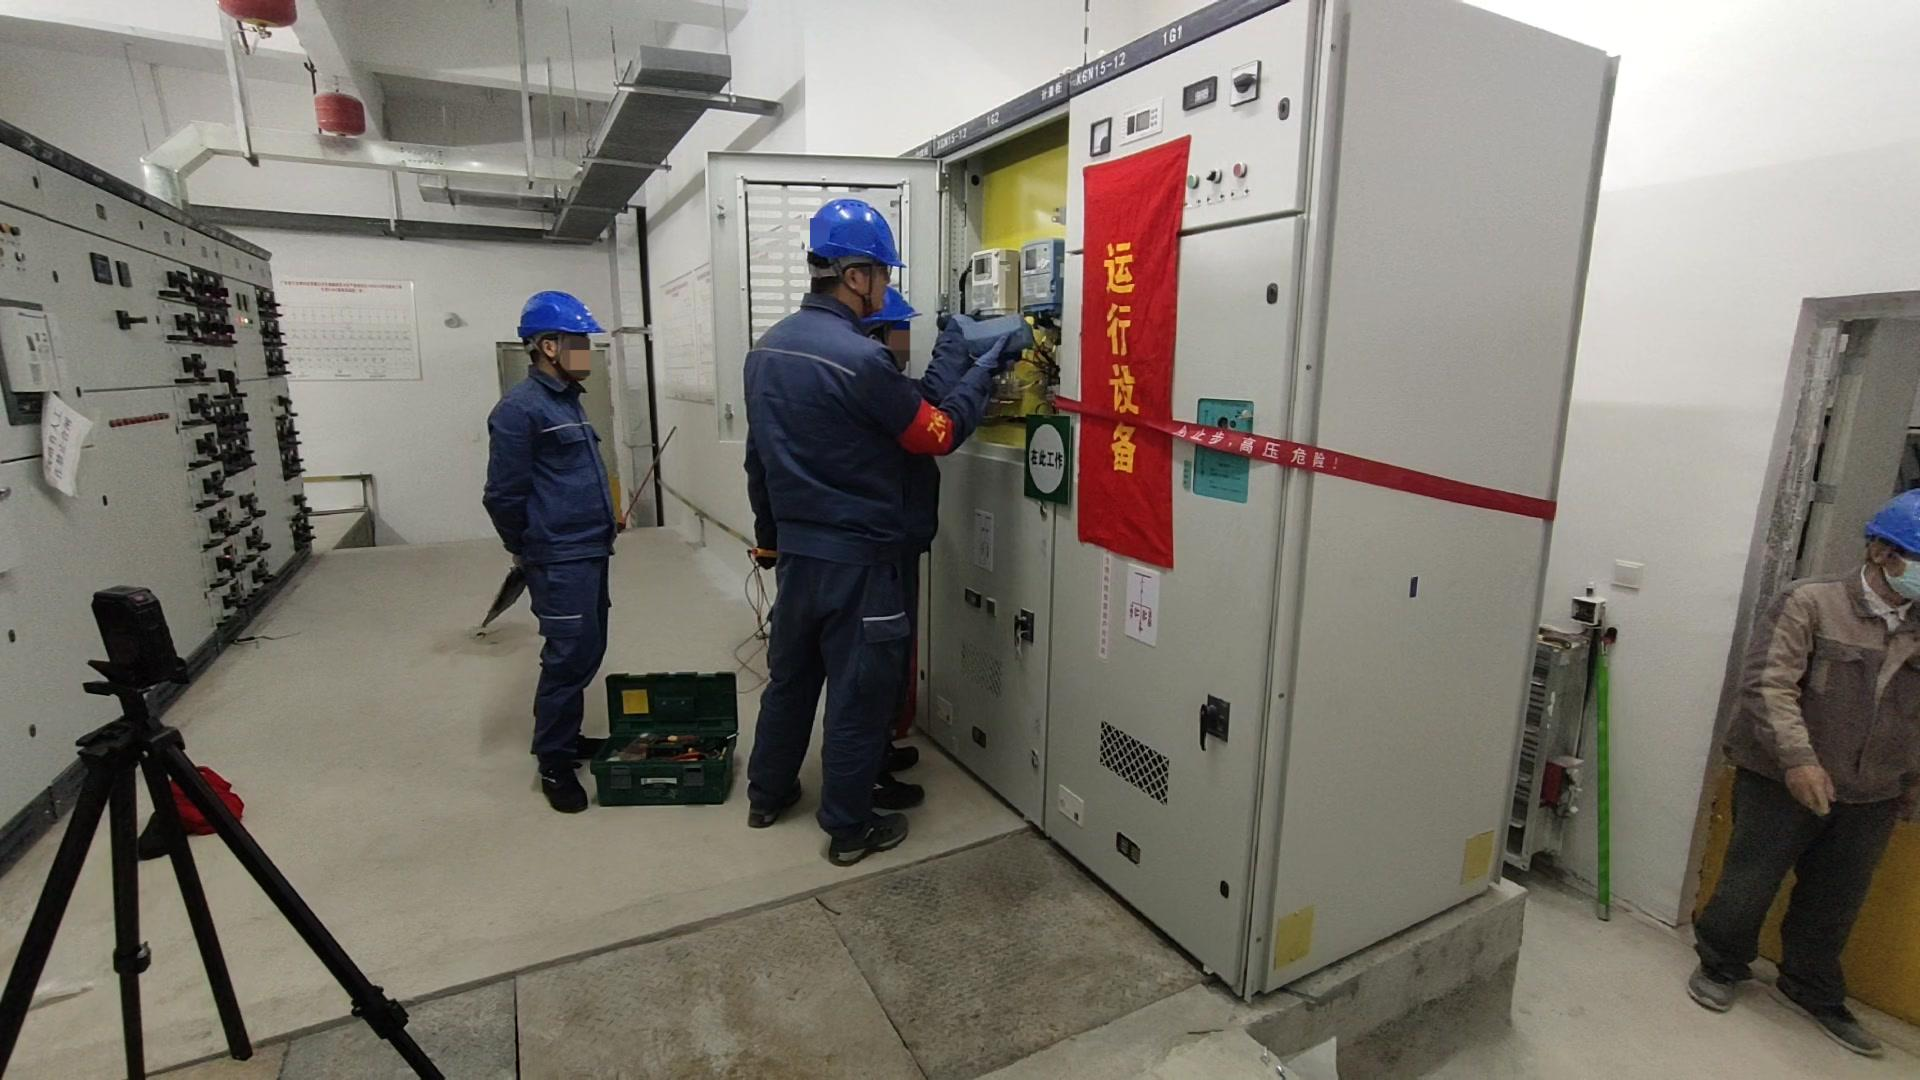halt: (806, 202, 906, 310), (518, 291, 608, 385), (1861, 491, 1920, 615), (862, 293, 920, 367)
inear: (837, 262, 878, 309), (534, 336, 572, 376)
